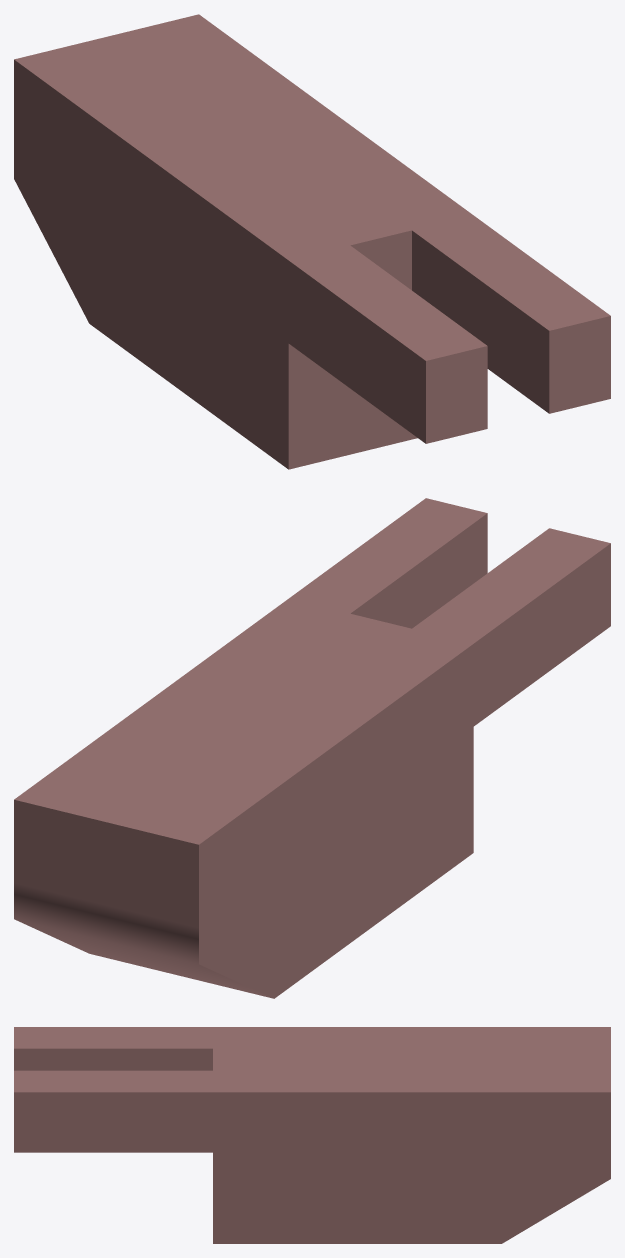
The model's file is NullWeapon.fbx.
The picture shows the model from 3 angles, top to bottom: view 1: azimuth 30°, elevation 25°; view 2: azimuth 150°, elevation 25°; view 3: azimuth 270°, elevation 25°; orthographic projection. The views are drawn at different scales.
Parts seen in each view (by area): view 1: Shotgun; view 2: Shotgun; view 3: Shotgun.
Part boxes in pixels (<box>): Shotgun: <box>14,14,610,469</box>; Shotgun: <box>14,498,610,998</box>; Shotgun: <box>14,1027,610,1243</box>.
Bounding box in the file's own units: 34.92 × 37.74 × 135.
